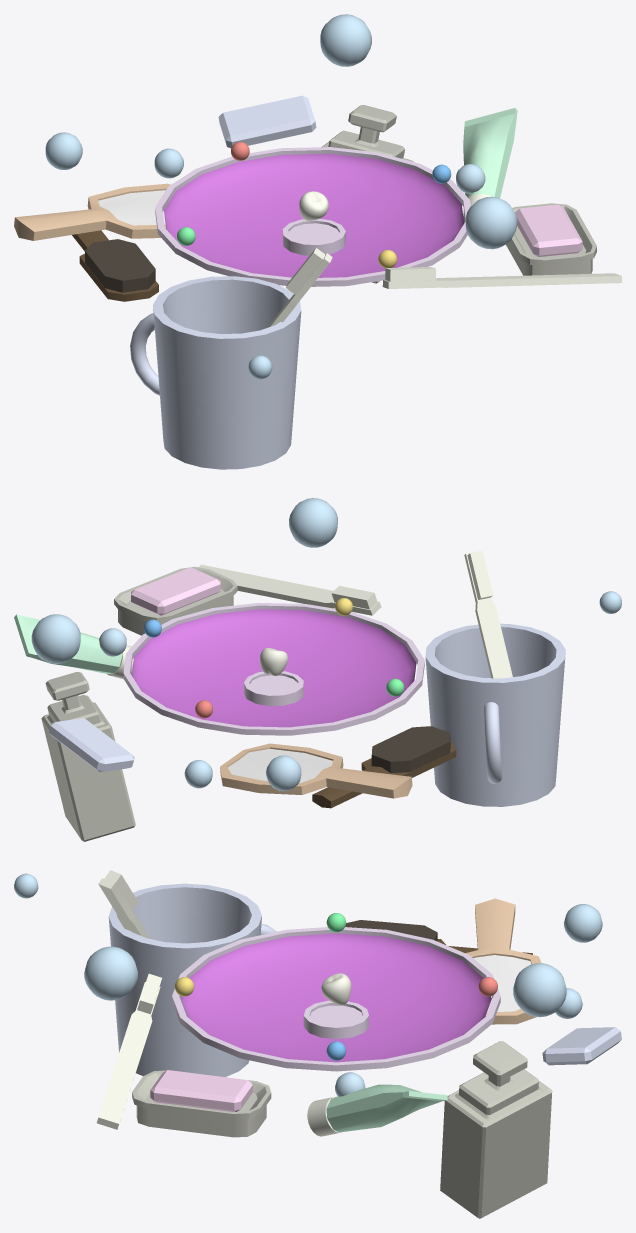
The model's file is stage_1.fbx.
The picture shows the model from 3 angles, top to bottom: view 1: azimuth 30°, elevation 25°; view 2: azimuth 150°, elevation 25°; view 3: azimuth 270°, elevation 25°; orthographic projection. The views are drawn at different scales.
Visible parts, largest first — view 1: stage, pCylinder1, stage_frame, polySurface1, soap2, Toothpaste_body, toothbrush1, hairbrush_pin, Soap_dish, soap1, Soap_bottle, bubble2 (+10 smaller); view 2: stage, pCylinder1, Soap_bottle, stage_frame, polySurface1, toothbrush1, hairbrush_pin, toothbrush, soap1, soap2, Soap_dish, Toothpaste_body (+10 smaller); view 3: stage, pCylinder1, Soap_bottle, stage_frame, Soap_dish, Toothpaste_body, toothbrush1, soap1, polySurface1, bubble2, bubble6, soap2 (+10 smaller).
Part boxes in pixels (x1=…): stage: x1=164, y1=153, x2=463, y2=277; pCylinder1: x1=153, y1=276, x2=301, y2=469; stage_frame: x1=155, y1=147, x2=470, y2=286; polySurface1: x1=14, y1=183, x2=170, y2=240; soap2: x1=218, y1=95, x2=316, y2=148; Toothpaste_body: x1=463, y1=108, x2=517, y2=198; toothbrush1: x1=382, y1=267, x2=621, y2=288; hairbrush_pin: x1=85, y1=239, x2=155, y2=292; Soap_dish: x1=506, y1=203, x2=596, y2=275; soap1: x1=515, y1=204, x2=582, y2=256; Soap_bottle: x1=321, y1=105, x2=413, y2=283; bubble2: x1=465, y1=196, x2=517, y2=249; stage: x1=131, y1=609, x2=416, y2=727; pCylinder1: x1=425, y1=623, x2=565, y2=806; Soap_bottle: x1=41, y1=672, x2=135, y2=841; stage_frame: x1=123, y1=603, x2=424, y2=735; polySurface1: x1=220, y1=743, x2=412, y2=798; toothbrush1: x1=199, y1=564, x2=381, y2=615; hairbrush_pin: x1=371, y1=726, x2=450, y2=773; toothbrush: x1=464, y1=551, x2=512, y2=678; soap1: x1=131, y1=567, x2=220, y2=615; soap2: x1=49, y1=718, x2=134, y2=772; Soap_dish: x1=114, y1=566, x2=237, y2=635; Toothpaste_body: x1=14, y1=614, x2=122, y2=673; stage: x1=181, y1=933, x2=491, y2=1062; pCylinder1: x1=108, y1=883, x2=261, y2=1077; Soap_bottle: x1=440, y1=1041, x2=552, y2=1218; stage_frame: x1=172, y1=927, x2=500, y2=1071; Soap_dish: x1=132, y1=1070, x2=271, y2=1137; Toothpaste_body: x1=326, y1=1084, x2=447, y2=1132; toothbrush1: x1=97, y1=973, x2=161, y2=1129; soap1: x1=150, y1=1070, x2=252, y2=1111; polySurface1: x1=465, y1=898, x2=541, y2=1024; bubble2: x1=84, y1=946, x2=137, y2=1000; bubble6: x1=513, y1=963, x2=566, y2=1017; soap2: x1=542, y1=1027, x2=621, y2=1065.
Size of what is drawn, in the model's own units: 20.34 by 9.97 by 22.43.
